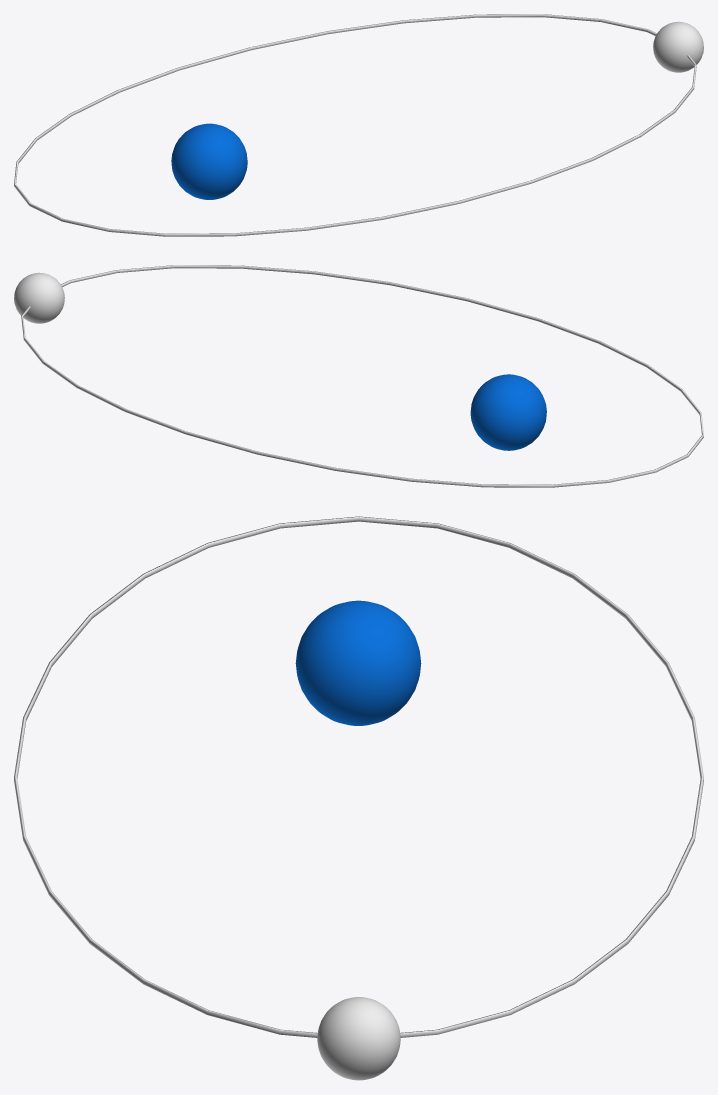
File: qiuzhuanqiu.FBX
3 views of the same model, one above another, from view 1: azimuth 30°, elevation 25°; view 2: azimuth 150°, elevation 25°; view 3: azimuth 270°, elevation 25° (orthographic). The views are drawn at different scales.
Parts seen in each view (by area): view 1: Ellipse002, Sphere002, Sphere001; view 2: Ellipse002, Sphere002, Sphere001; view 3: Sphere002, Ellipse002, Sphere001.
Boxes of the visible parts, left/top/right/bottom form: Ellipse002: left=14, top=14, right=696, bottom=236; Sphere002: left=171, top=123, right=247, bottom=199; Sphere001: left=653, top=21, right=703, bottom=72; Ellipse002: left=21, top=265, right=703, bottom=487; Sphere002: left=470, top=374, right=546, bottom=450; Sphere001: left=14, top=272, right=64, bottom=323; Sphere002: left=295, top=600, right=421, bottom=725; Ellipse002: left=14, top=516, right=703, bottom=1037; Sphere001: left=317, top=997, right=400, bottom=1080.
Size of the model in its own units: 239 by 23.62 by 130.
